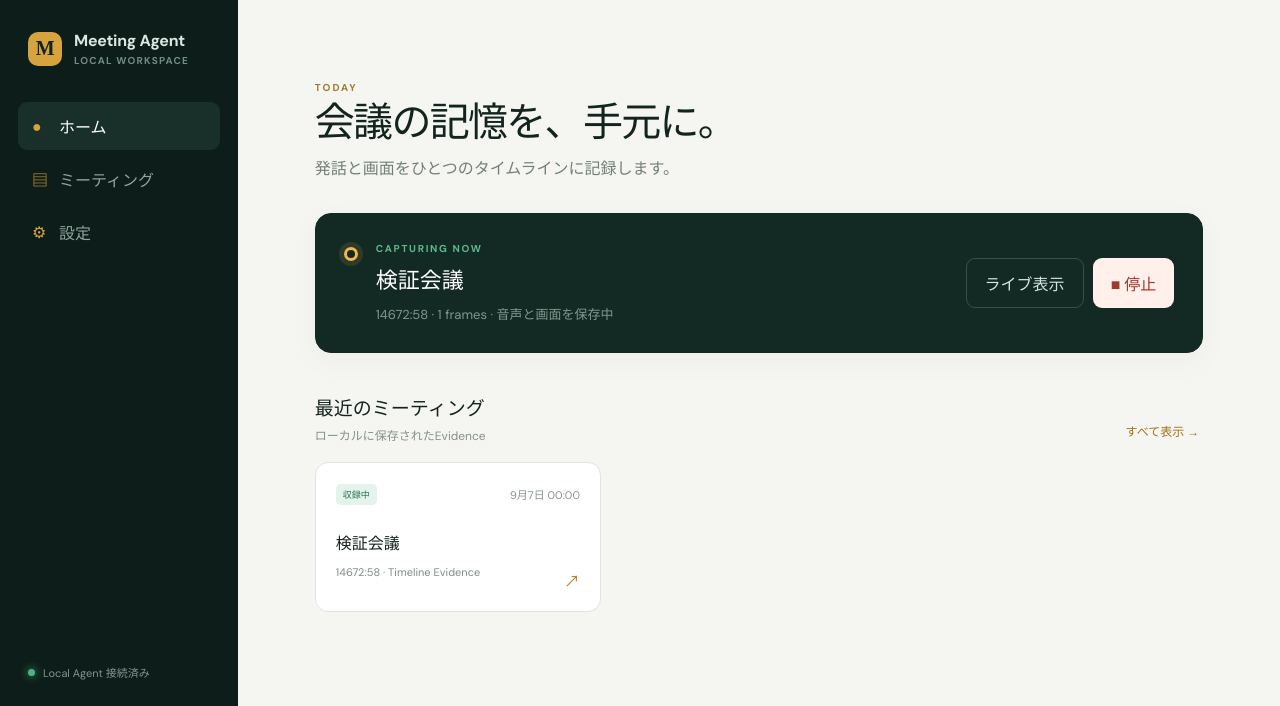
Test: allows an existing summary to be regenerated
Step 1. Click the button "ライブ表示" → (1025, 282), box left=966, top=258, right=1084, bottom=308
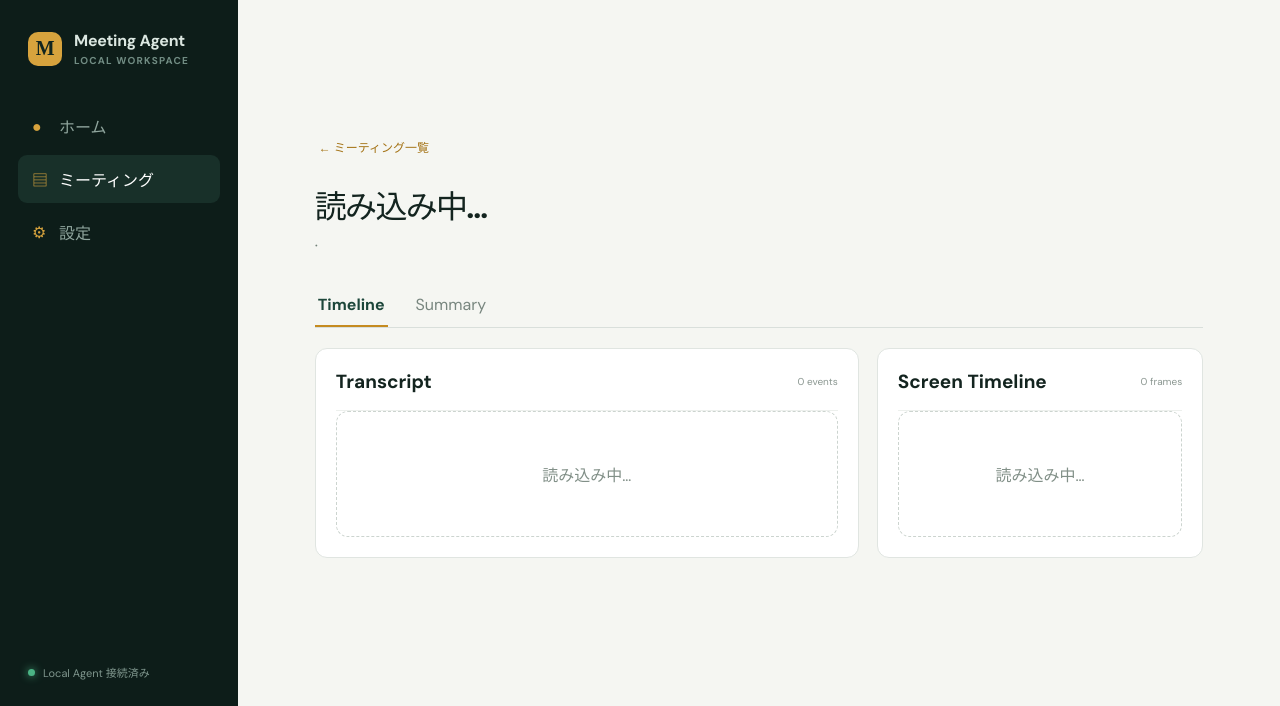
Step 2. Click the button "Summary" → (451, 306), box left=413, top=284, right=489, bottom=327
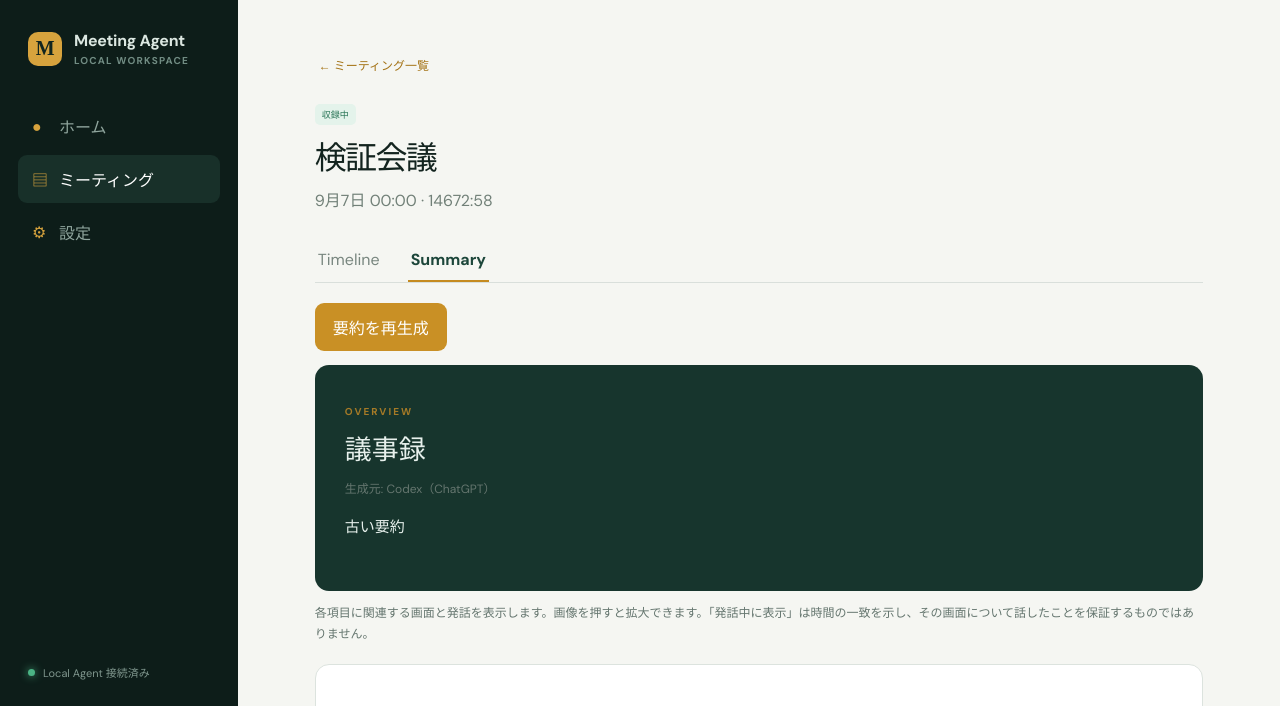
Expected: the text "古い要約" is shown, left=345, top=517, right=405, bottom=537
Step 3. Click the button "要約を再生成" → (381, 327), box left=315, top=303, right=447, bottom=351
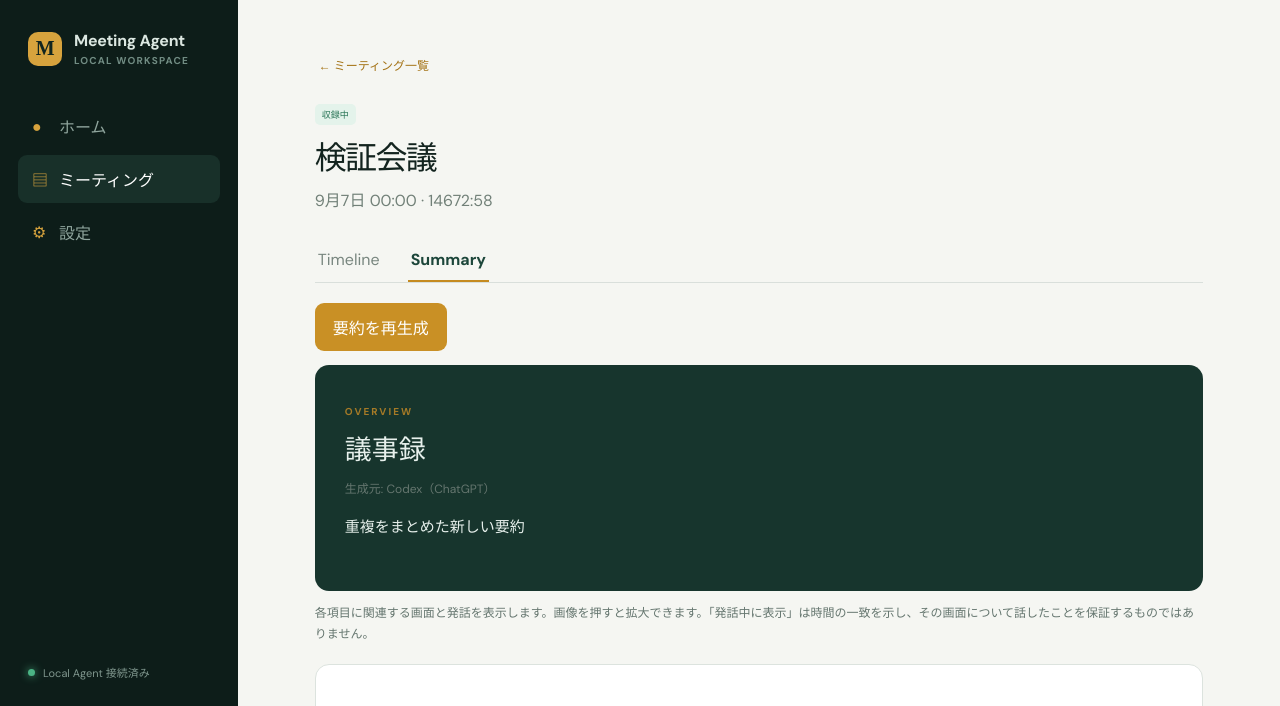
Expected: the text "重複をまとめた新しい要約" is shown, left=345, top=517, right=525, bottom=537
